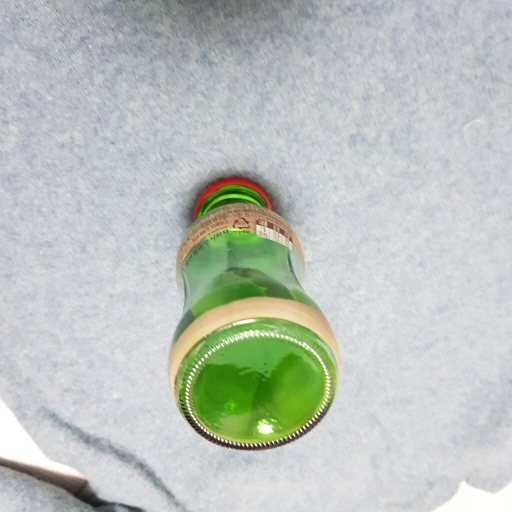Glass_4: (166, 172, 342, 452)
